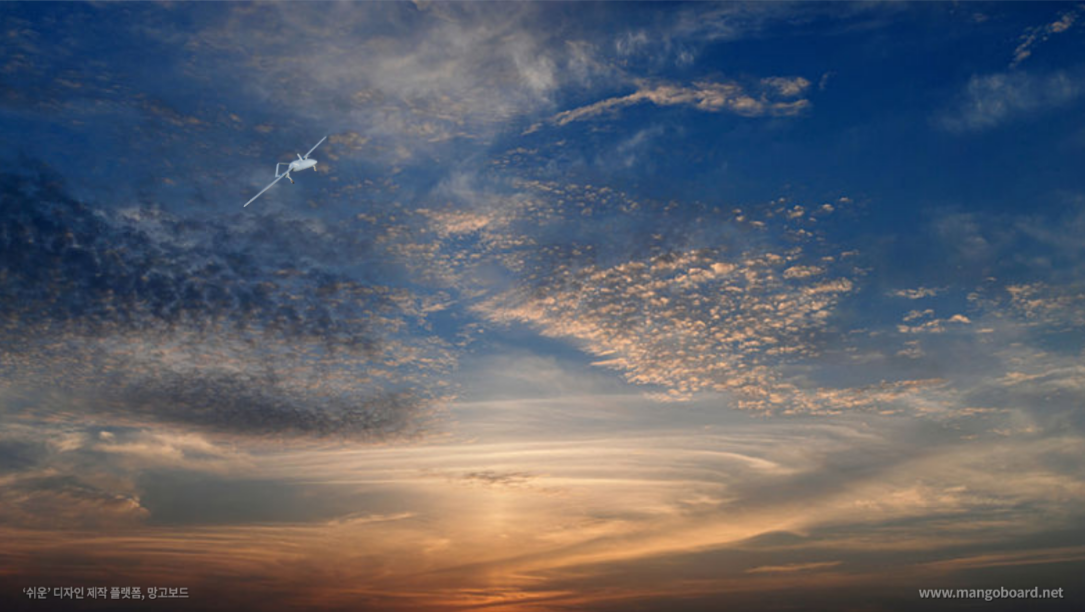military drone: (243, 135, 327, 207)
